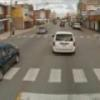cars: (52, 30, 77, 55), (0, 42, 20, 70), (37, 26, 48, 34)
